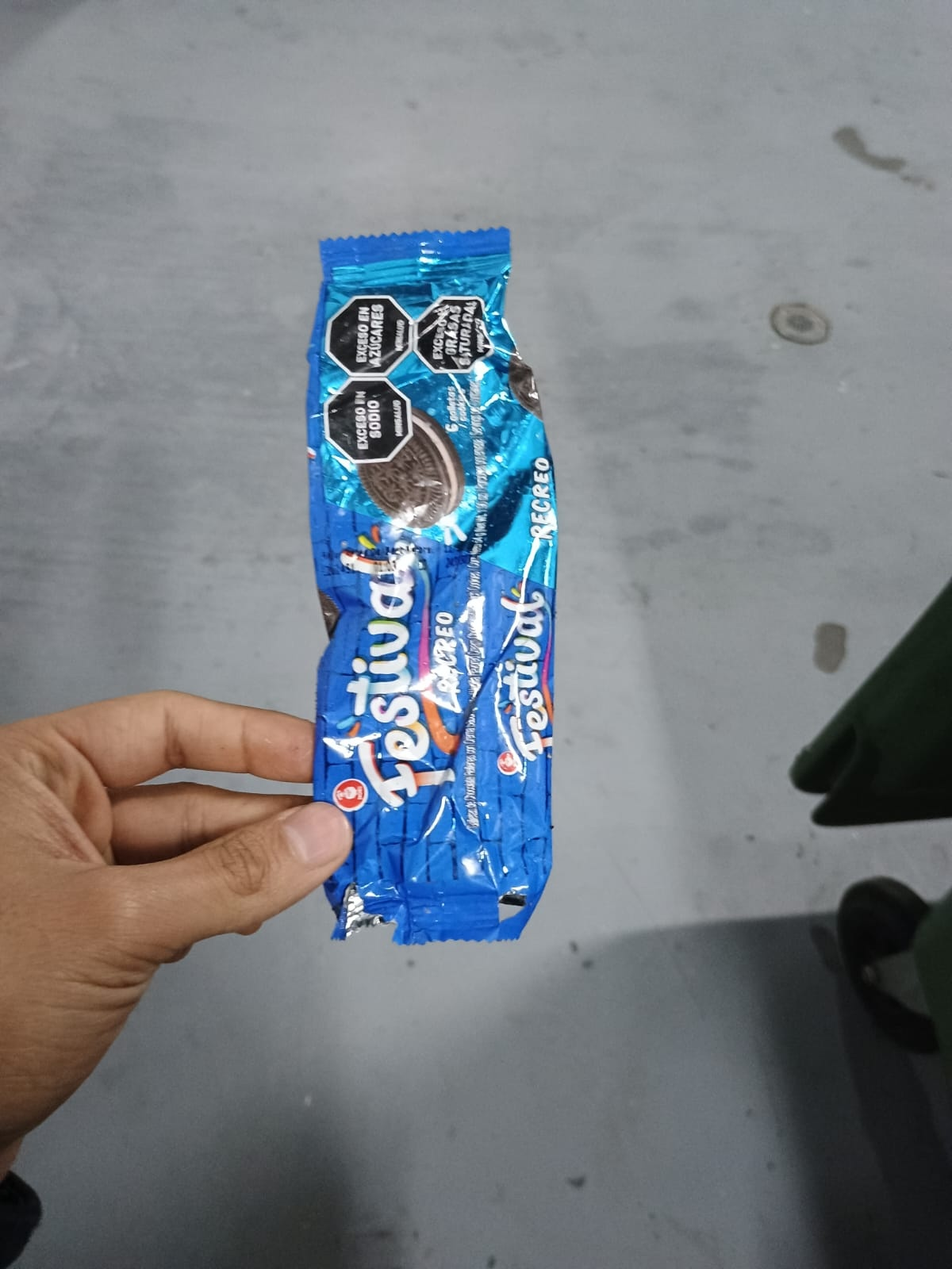Ordinario: (306, 227, 556, 945)
